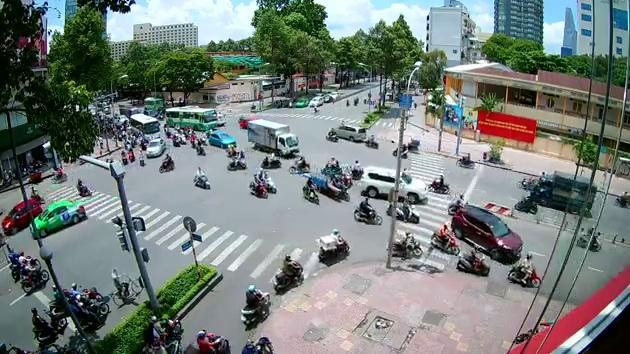xe buyt: (164, 106, 217, 129)
xe dap: (111, 265, 142, 306)
xe hoi: (450, 204, 522, 262), (359, 165, 427, 204), (28, 199, 85, 238), (0, 199, 40, 236), (333, 122, 365, 140), (207, 131, 235, 148), (145, 138, 165, 156)
xe may: (271, 253, 303, 293), (239, 284, 270, 325), (508, 251, 541, 287), (456, 243, 490, 276), (428, 220, 459, 255), (351, 195, 383, 225), (427, 173, 448, 193), (193, 164, 210, 188), (156, 151, 174, 172)
xe tai: (528, 169, 596, 212), (246, 117, 300, 155)
